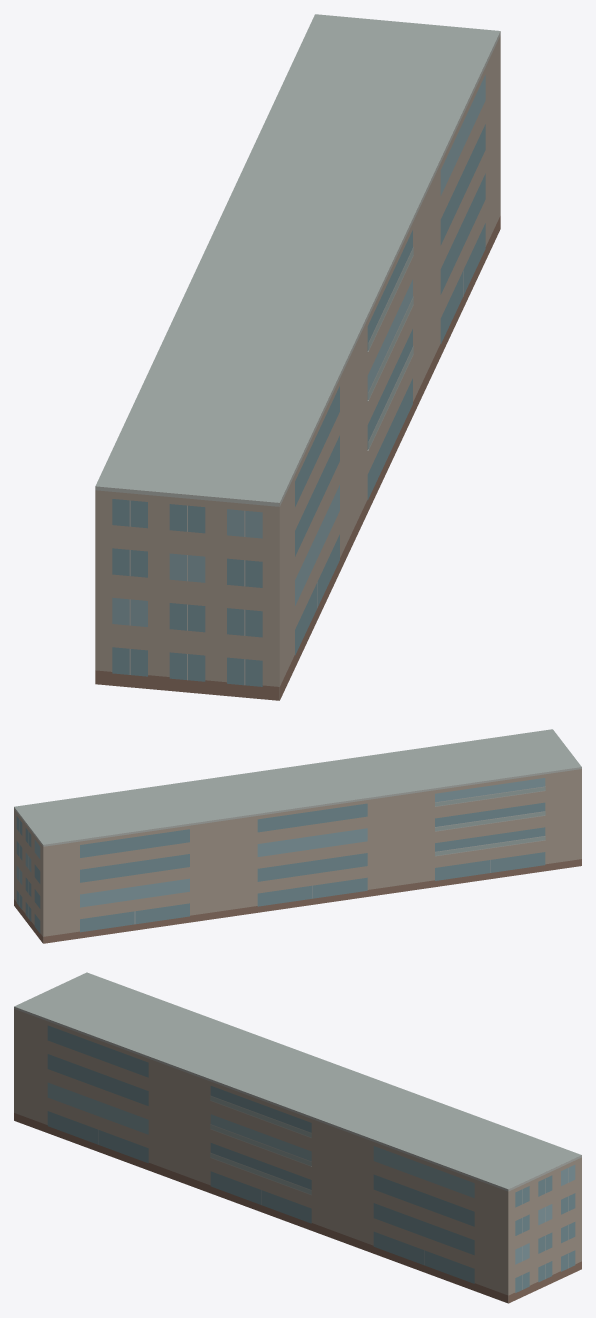
Rendered from survey-upis-32944541.glb.
3 renders of one model, top to bottom at view 1: azimuth 30°, elevation 25°; view 2: azimuth 150°, elevation 25°; view 3: azimuth 270°, elevation 25°, orthographic. The views are drawn at different scales.
Visible parts, largest first — view 1: survey-upis-32944541.tmp; view 2: survey-upis-32944541.tmp; view 3: survey-upis-32944541.tmp.
Part boxes in pixels (bbox=[...]): survey-upis-32944541.tmp: bbox=[95, 14, 500, 700]; survey-upis-32944541.tmp: bbox=[14, 729, 581, 943]; survey-upis-32944541.tmp: bbox=[14, 972, 581, 1303].
Size of the model in its own units: 49.73 by 12.2 by 55.
